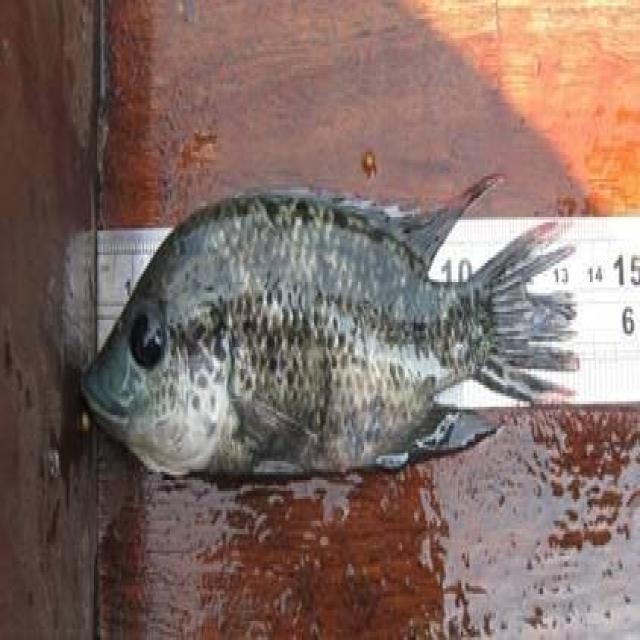ikan: (66, 168, 592, 516)
